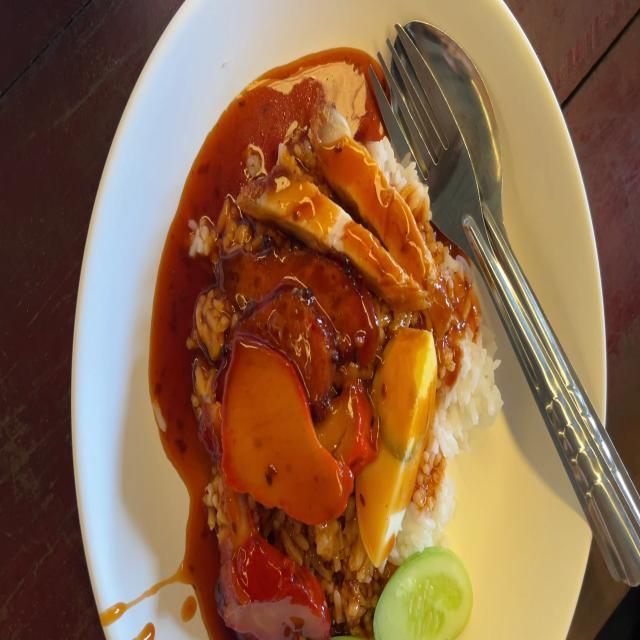boiled_egg: (358, 324, 441, 556)
chainese_sausage: (229, 227, 381, 386)
crispy_pork: (253, 114, 430, 299)
cucumber: (372, 535, 470, 640)
red_pork: (218, 330, 351, 530), (217, 519, 332, 640)
red_pork_and_crispy_pork: (204, 112, 502, 640)
